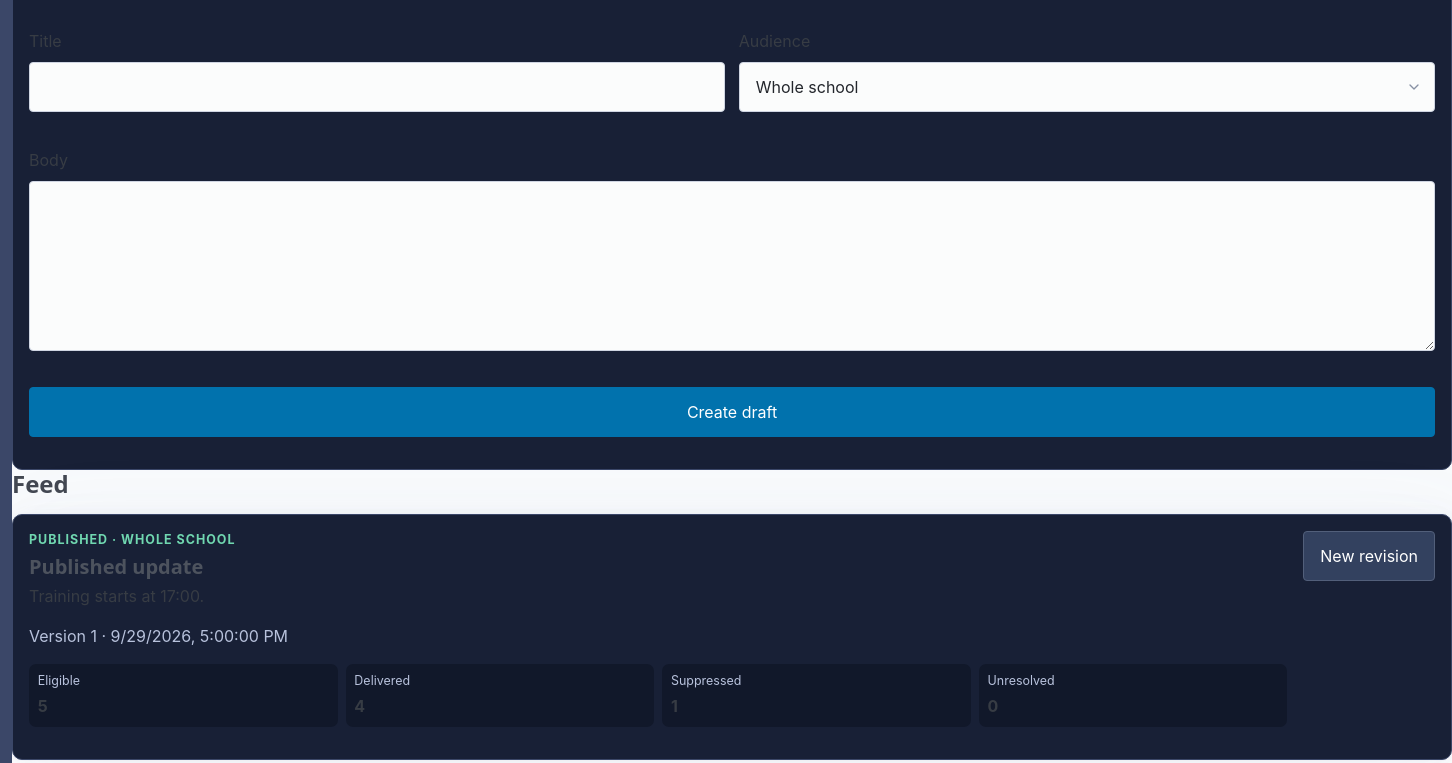
it: shared organization announcements view › creates a new draft revision without rewriting the published card
(page scrolled)
Click the button with class "secondary": {"x": 1369, "y": 556} [1303, 531, 1435, 581]
(page scrolled)
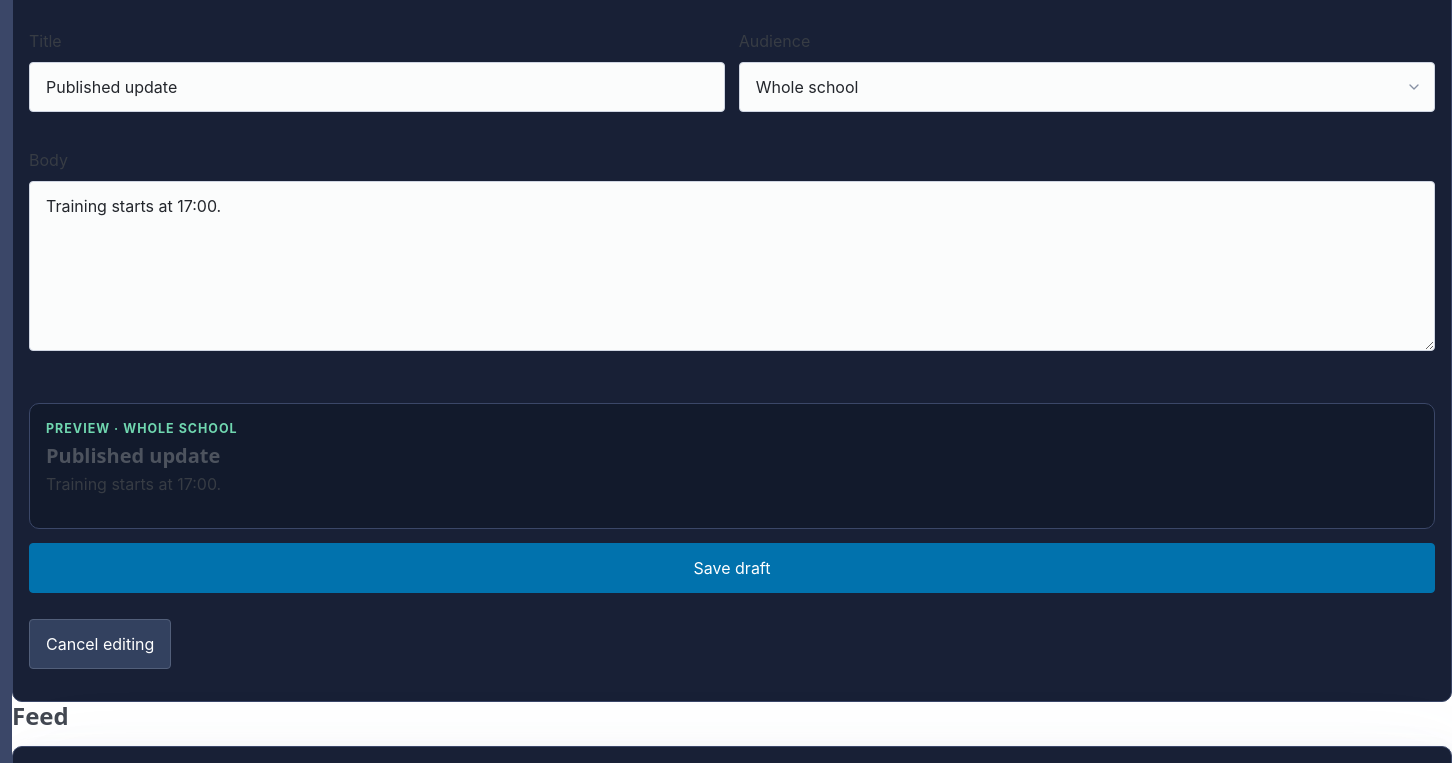
Expected: the field with test id "announcement-title" holds "Published update", [29, 62, 725, 112]
